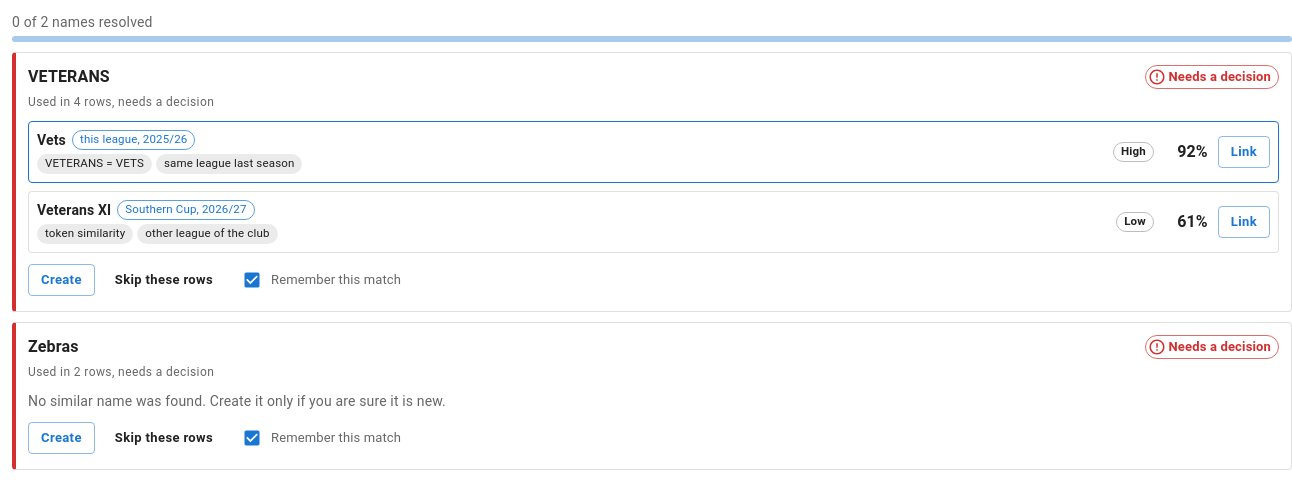
Test case: ReferenceResolver, schedule candidates › explains Link and Create in tooltips (MUI also opens them on keyboard focus)
Hover over the button with aria-label "Link: Vets": {"x": 1244, "y": 152} 1218,136 -> 1270,168
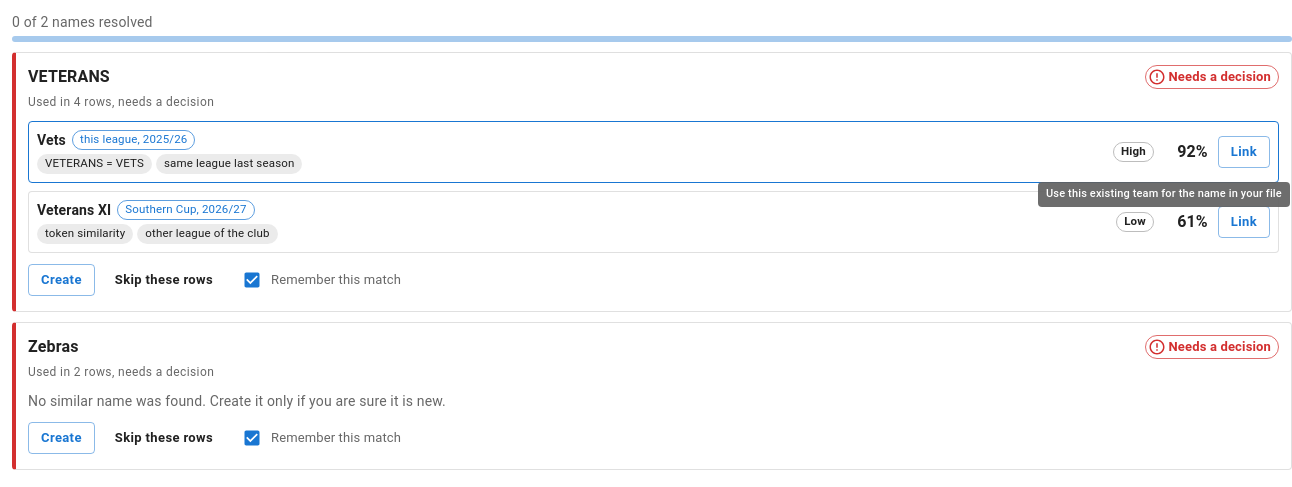
Now the tooltip reads "Use this existing team for the name in your file", box 1046,187 -> 1282,200
Hover over the button "Create" below "token similarity": {"x": 61, "y": 280} 28,264 -> 95,296
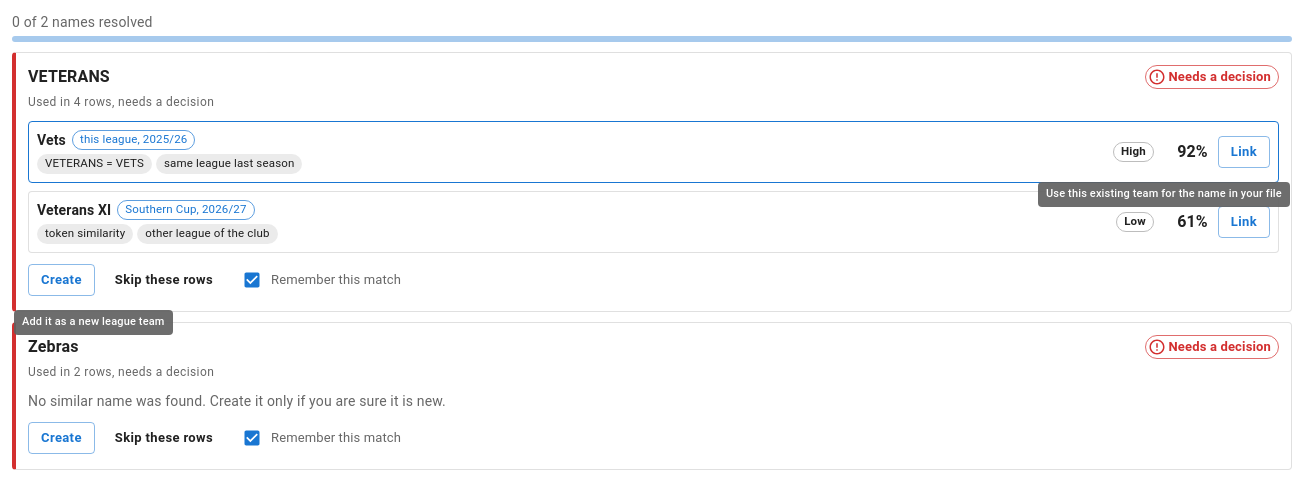
Now the text "Add it as a new league team" is shown, box 14,310 -> 172,334
